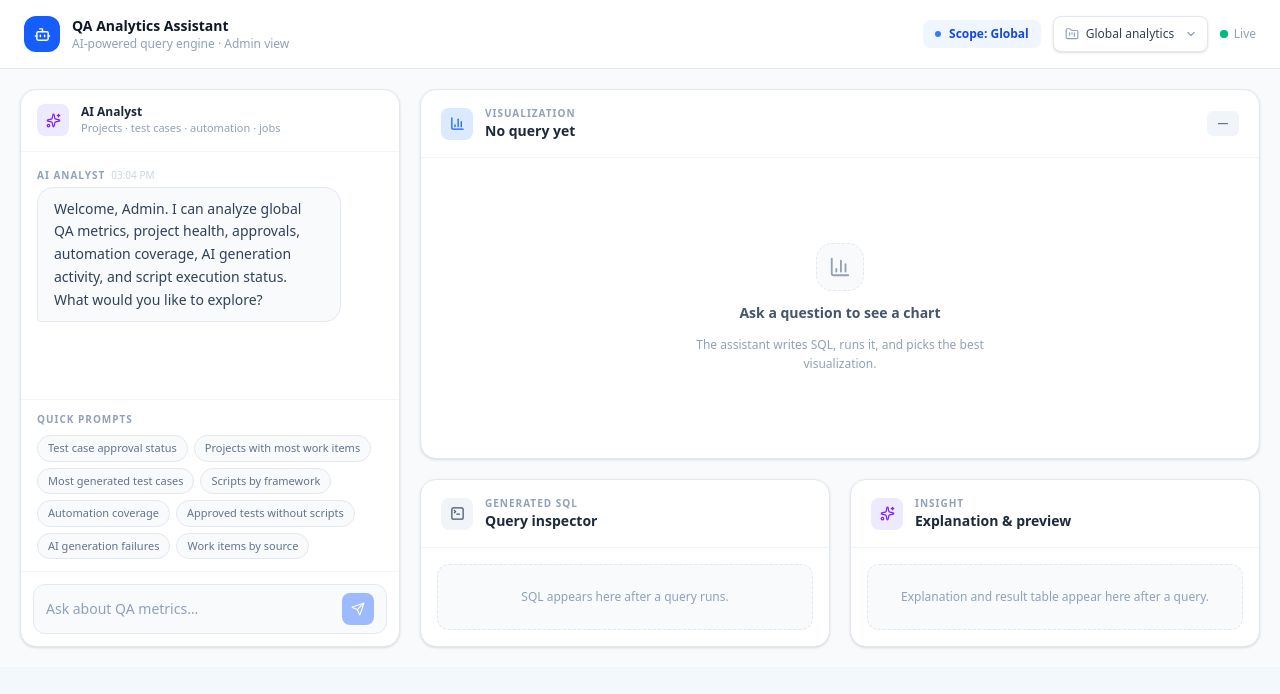
Scenario: AdminAnalyticsAssistantPage › shows an API error message when asking fails
The image size is (1280, 694).
Type "Broken query" into the field with placeholder "Ask about QA metrics…" at {"x": 190, "y": 609}, box [46, 599, 334, 619]
Then press Enter
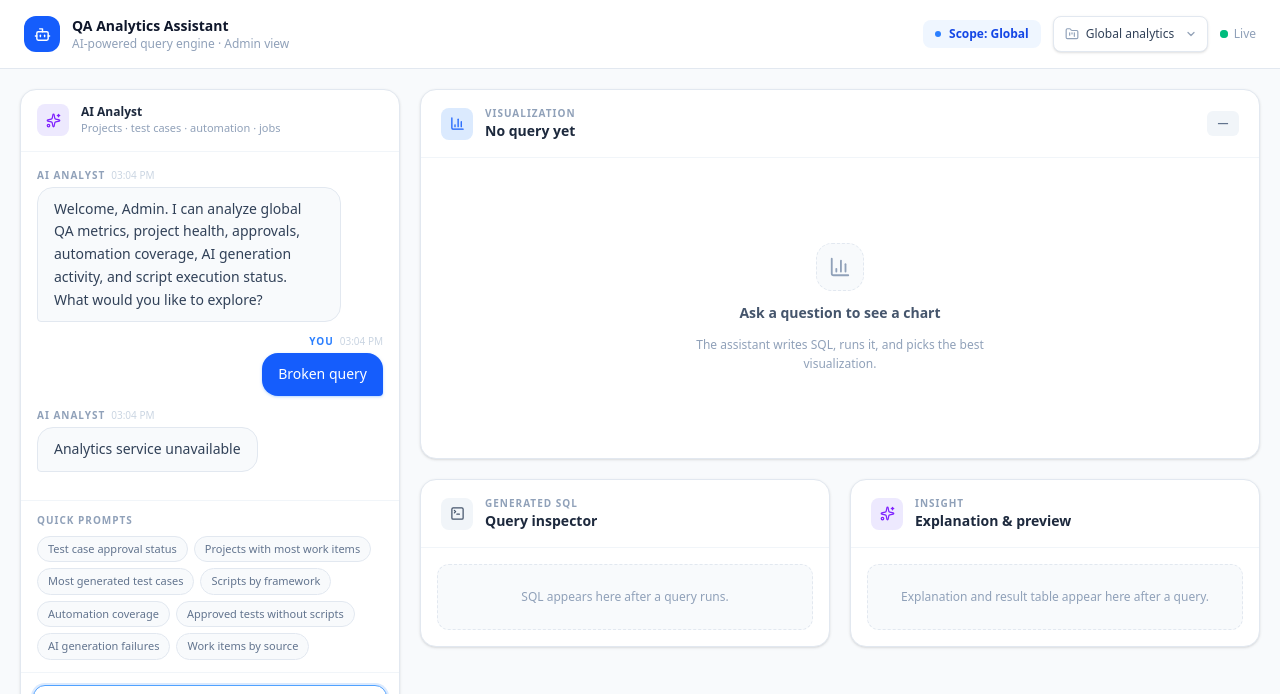
Result: the text "Analytics service unavailable" is shown at [54, 438, 241, 461]
